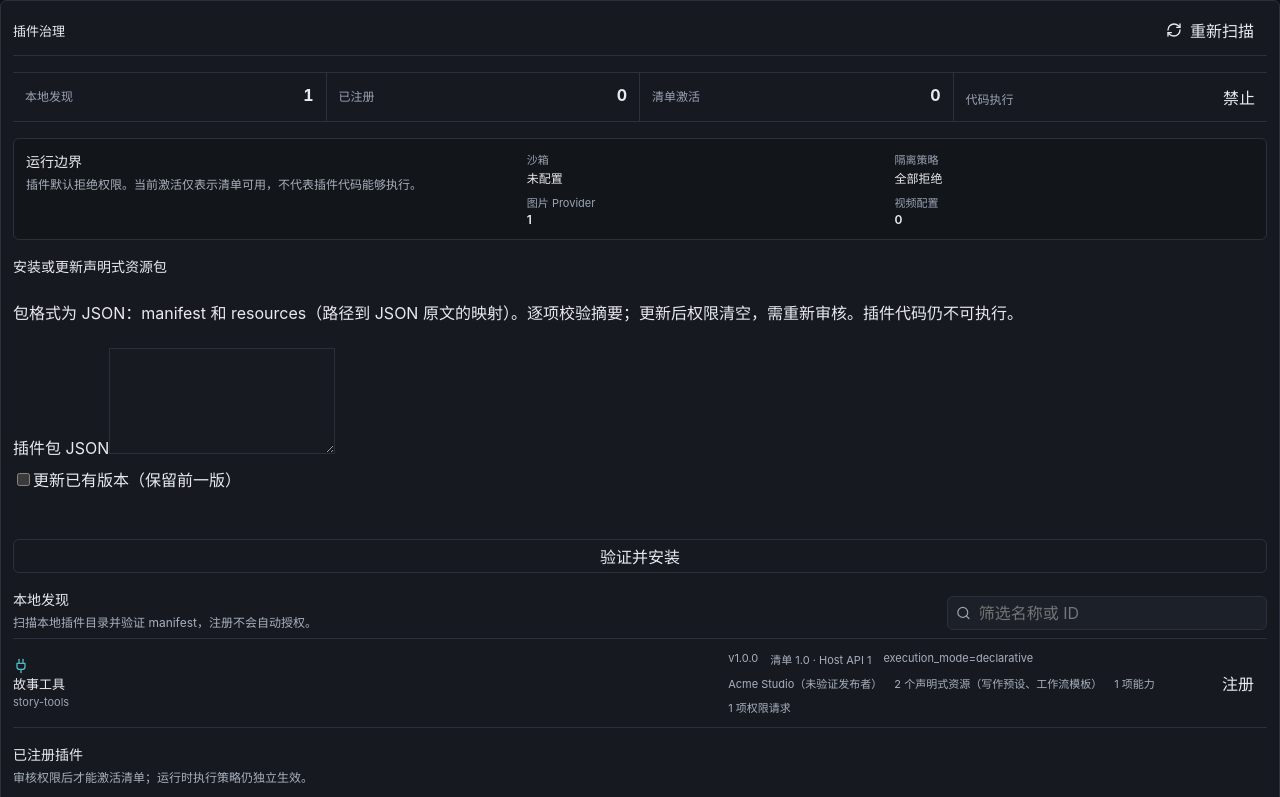
shows the runtime boundary and registers without implying permission approval
Expected: the text "故事工具" is shown, [13,676,65,692]
Expected: the text "当前激活仅表示清单可用，不代表插件代码能够执行。" is shown, [26,177,422,192]
Click the button "注册": click(1238, 683) [1209,666,1267,700]
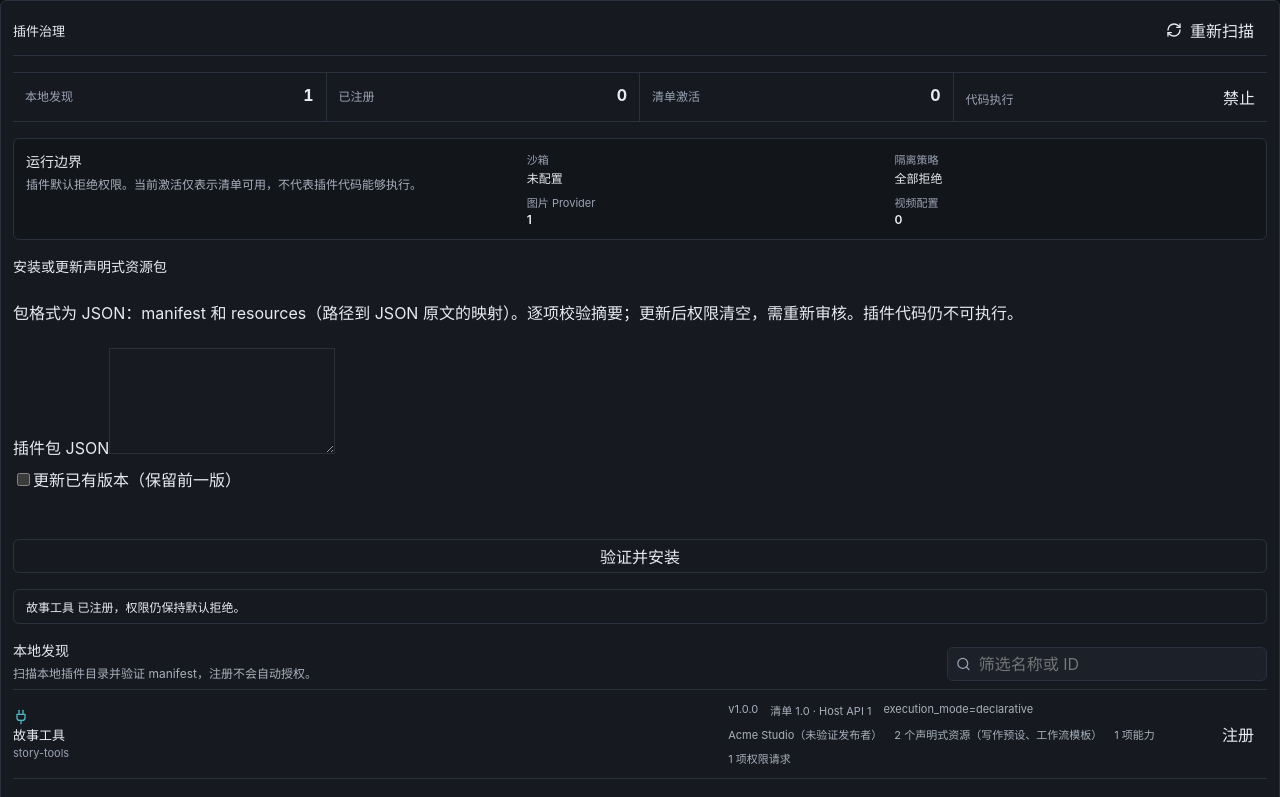
Expected: the text "故事工具 已注册，权限仍保持默认拒绝。" is shown, [13,589,1267,624]
